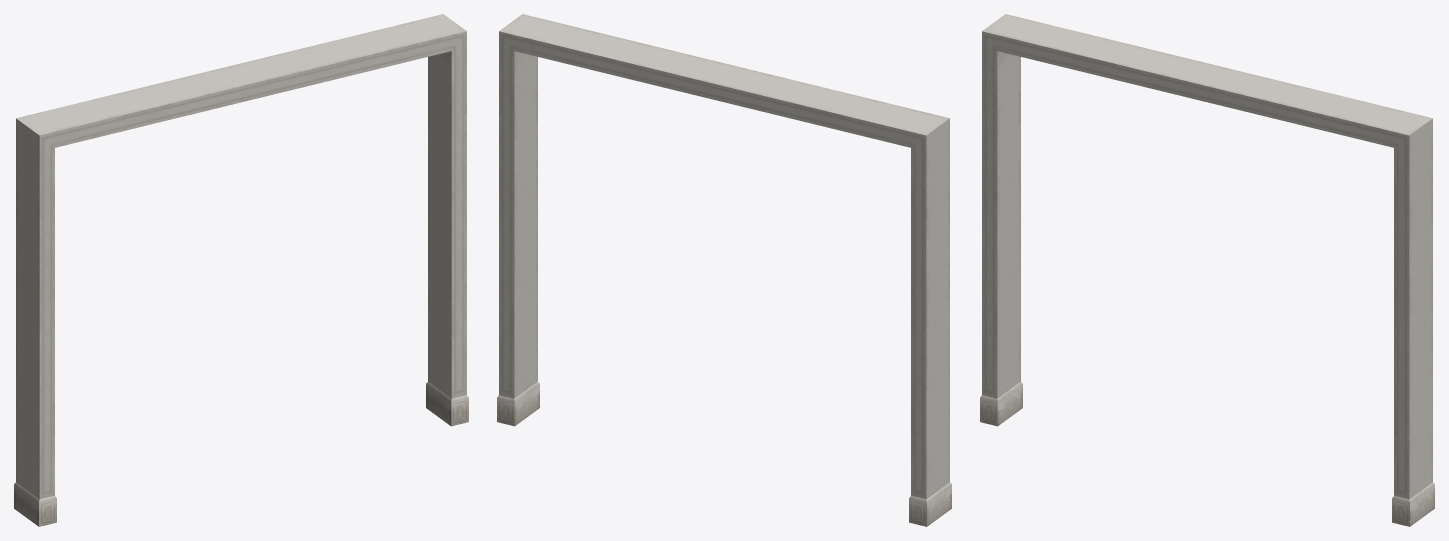
File: DoorFrameC.FBX
The picture shows the model from 3 angles, left to right: view 1: azimuth 30°, elevation 25°; view 2: azimuth 150°, elevation 25°; view 3: azimuth 330°, elevation 25°; orthographic projection.
Parts seen in each view (by area): view 1: DoorFrameC; view 2: DoorFrameC; view 3: DoorFrameC.
Part boxes in pixels (<box>): DoorFrameC: <box>14,14,468,526</box>; DoorFrameC: <box>497,14,951,526</box>; DoorFrameC: <box>980,14,1434,526</box>.
Size of the model in its own units: 252 by 219 by 25.41.
